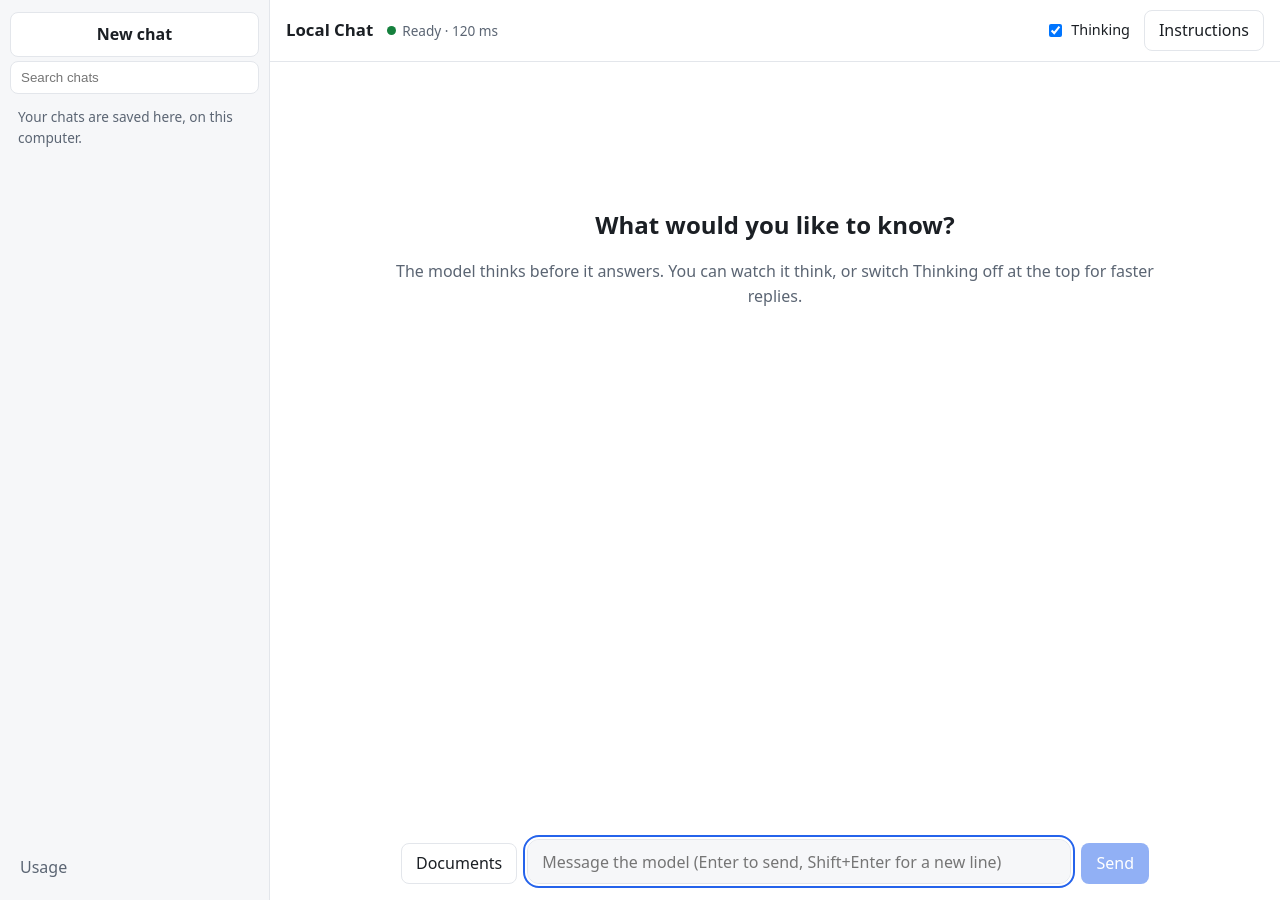
App › explains that the model is busy and lets you try again
The width and height of the screenshot is (1280, 900).
Type "hello" into the text box labelled "Message". click: [799, 862]
box: [527,839,1072,884]
Then press Enter
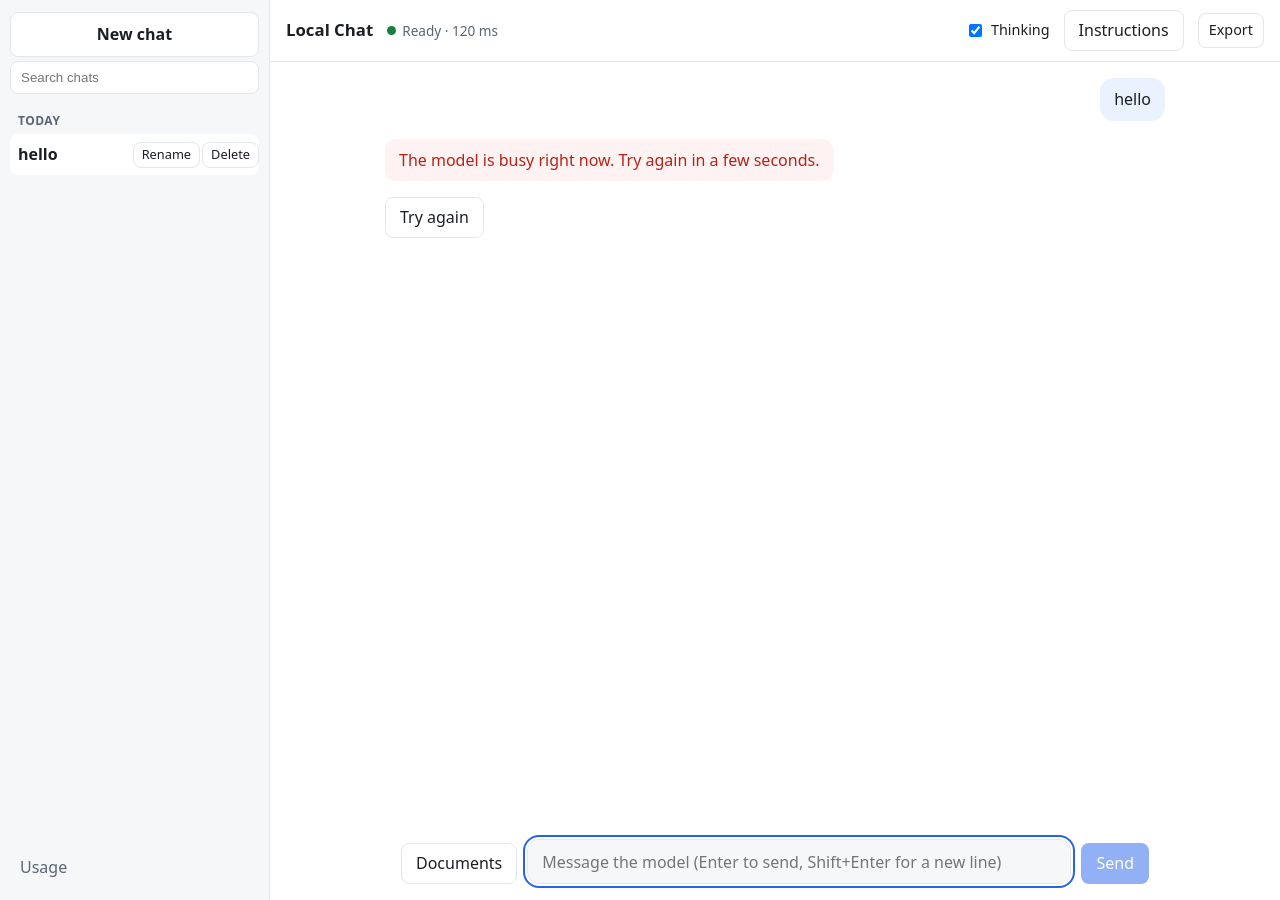
expect the message "The model is busy right now. Try again in a few seconds." is shown: met, box [385,139,833,181]
Click the button "Try again". click: [434, 218]
box: [385,197,484,238]
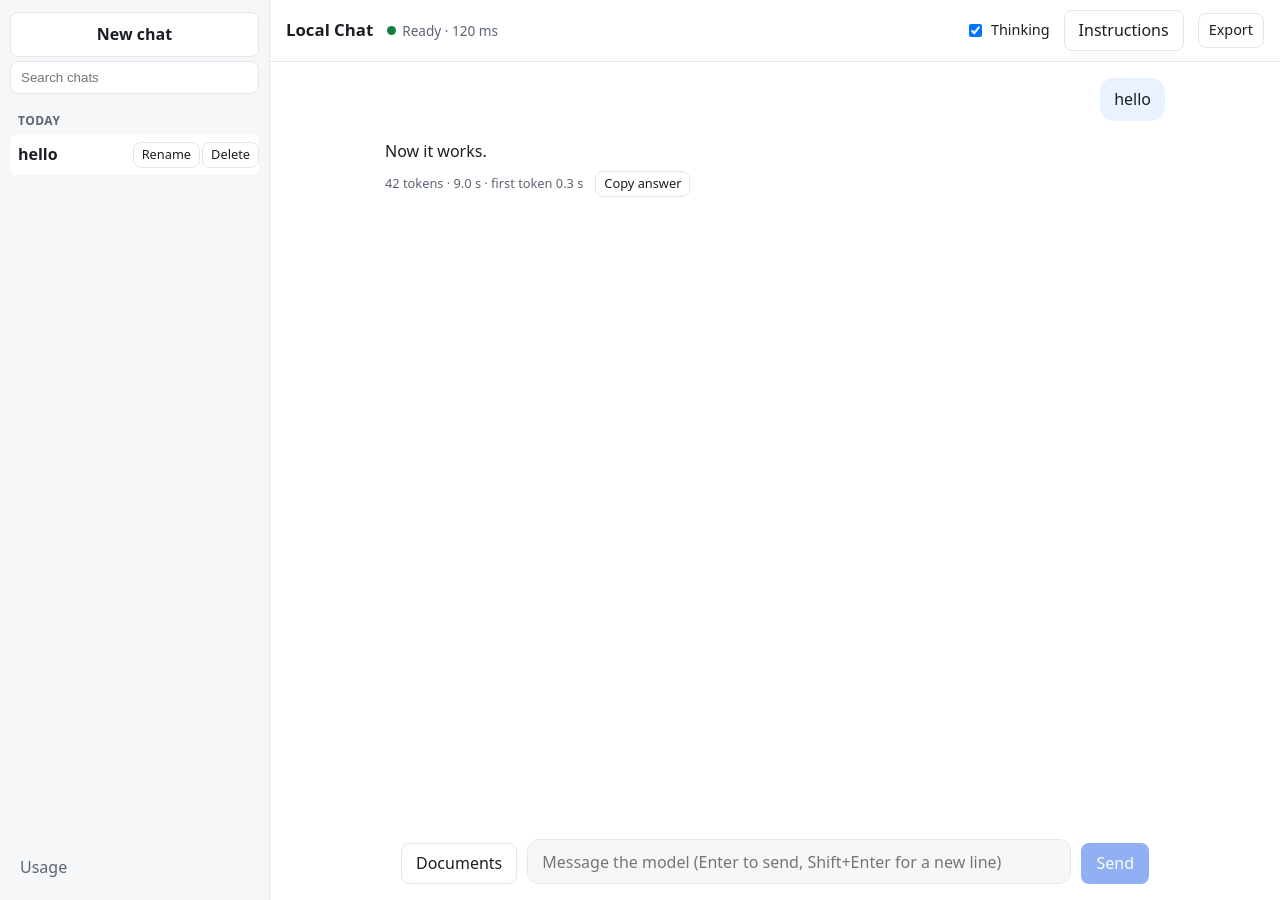
expect the text "hello" is shown once: met, box [1100,78,1165,121]
expect the text "Now it works." is shown: met, box [385,140,487,162]
expect the message "The model is busy right now. Try again in a few seconds." is gone: met
